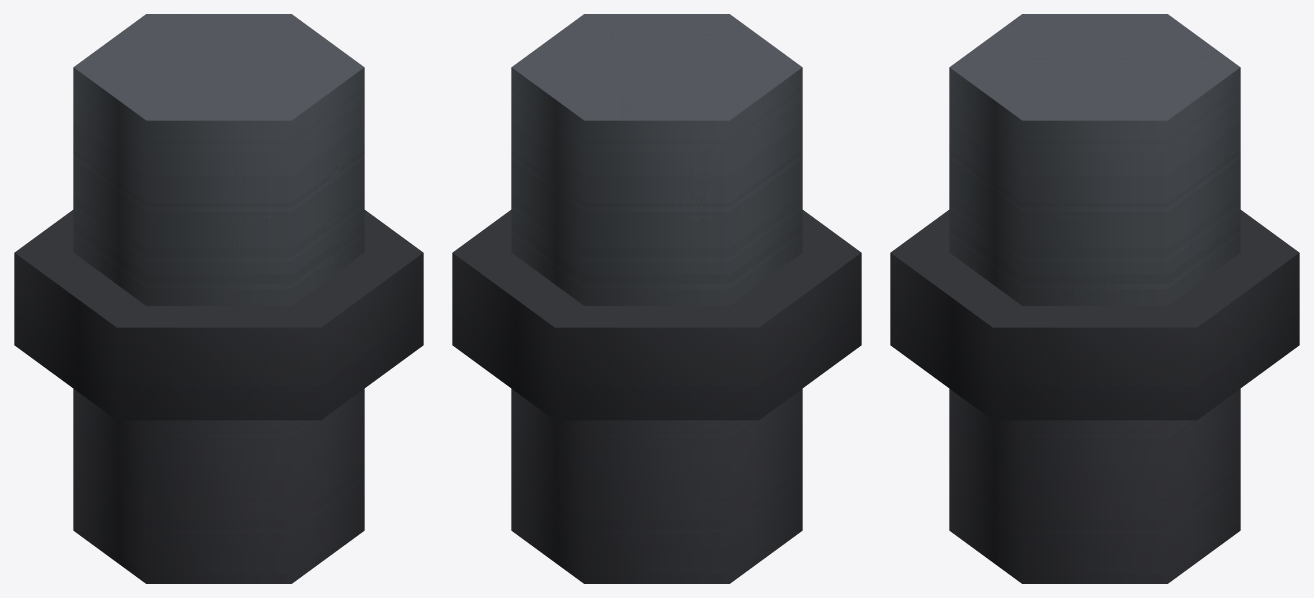
Rendered from s_pipe_ring.glb.
3 renders of one model, left to right at view 1: azimuth 30°, elevation 25°; view 2: azimuth 150°, elevation 25°; view 3: azimuth 270°, elevation 25°, orthographic.
Visible parts, largest first — view 1: pipe-ring; view 2: pipe-ring; view 3: pipe-ring.
Boxes of the visible parts, <box> form: pipe-ring: <box>14,14,423,583</box>; pipe-ring: <box>452,14,861,583</box>; pipe-ring: <box>890,14,1299,583</box>.
Bounding box in the file's own units: 0.3464 × 0.5 × 0.4.
1 material, 1 textured.
